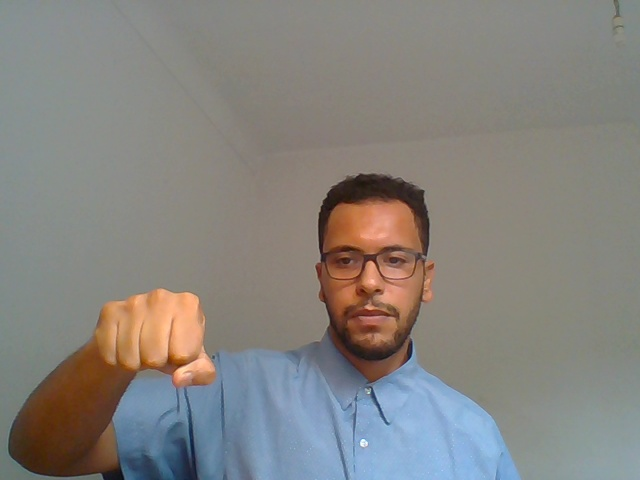yes: (61, 254, 239, 432)
